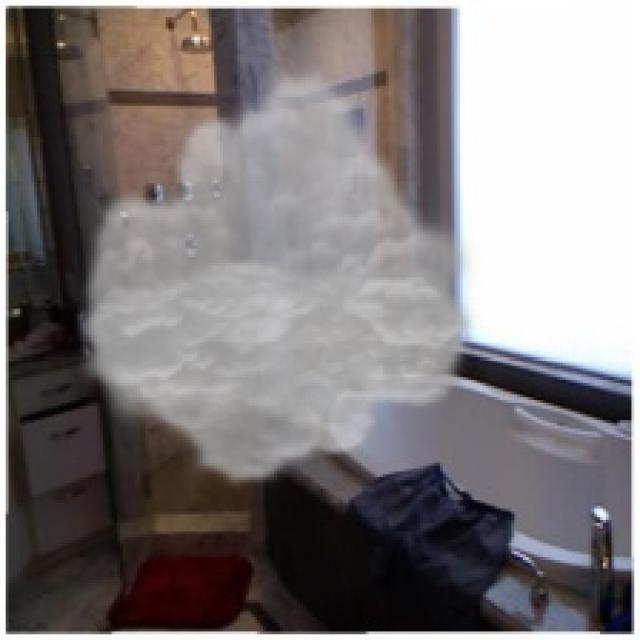smoke: (68, 63, 483, 488)
